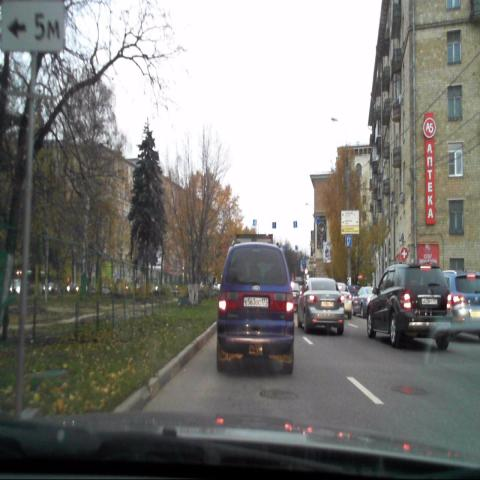8_1_4: (0, 0, 65, 51)
